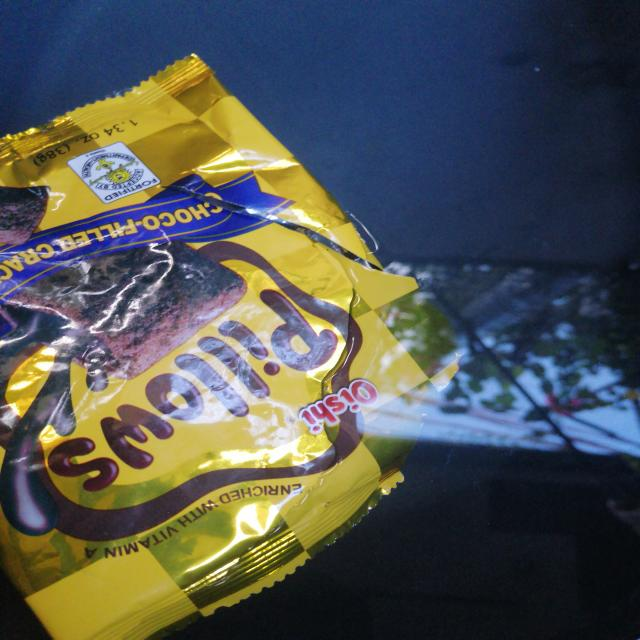Plastic Wrapper: (0, 35, 514, 640)
